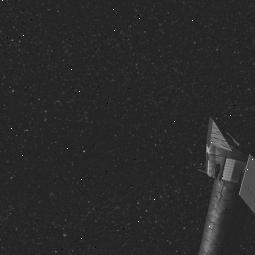xmm_newton: (199, 127, 255, 255)
